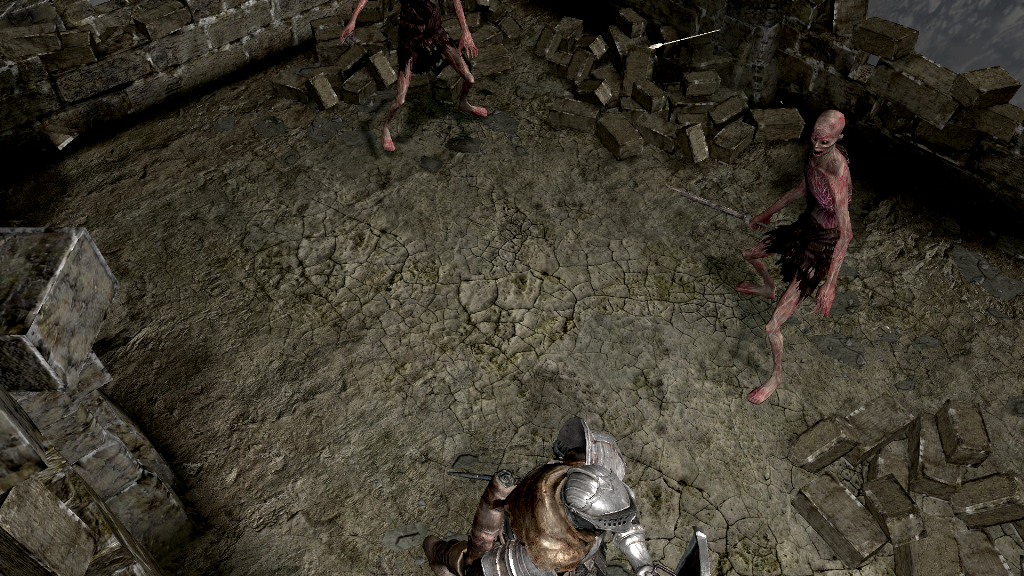hollow: (735, 109, 854, 405), (339, 1, 488, 153)
player: (422, 414, 711, 576)
